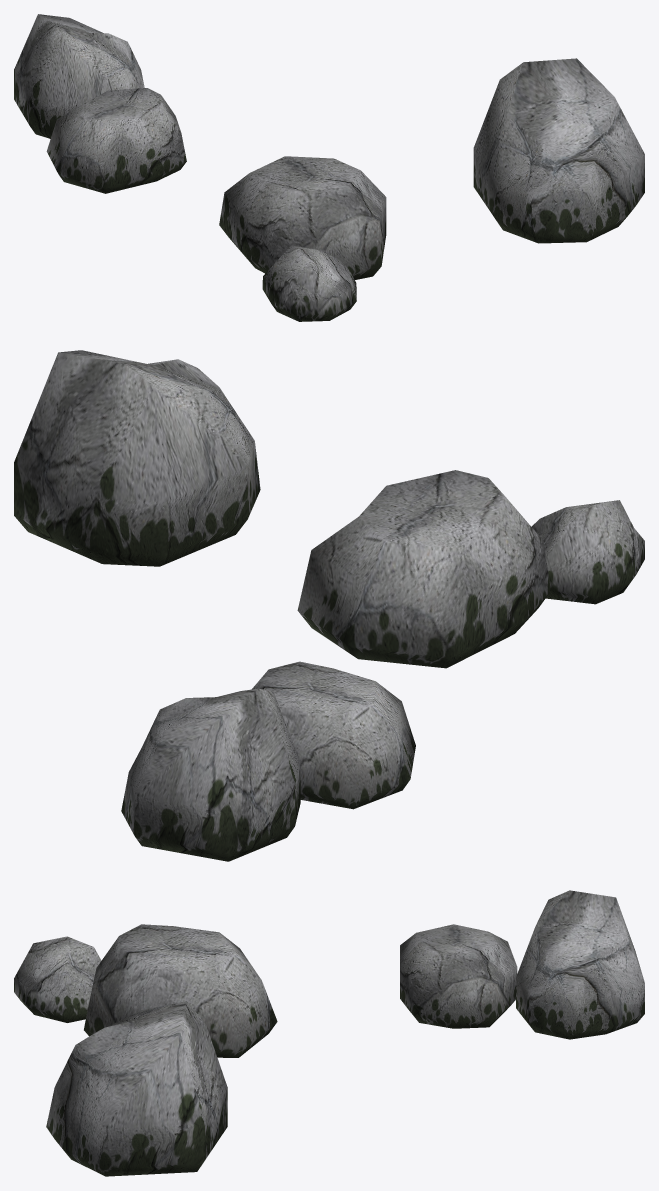
File: B13_stone_00.FBX
3 views of the same model, one above another, from view 1: azimuth 30°, elevation 25°; view 2: azimuth 150°, elevation 25°; view 3: azimuth 270°, elevation 25° (orthographic). The views are drawn at different scales.
Parts seen in each view (by area): view 1: B13_stone; view 2: B13_stone; view 3: B13_stone.
Boxes of the visible parts, <box> form: B13_stone: <box>14,14,644,321</box>; B13_stone: <box>14,350,644,861</box>; B13_stone: <box>14,890,644,1176</box>.
Size of the model in its own units: 193 by 58.91 by 243.
1 material, 1 textured.
